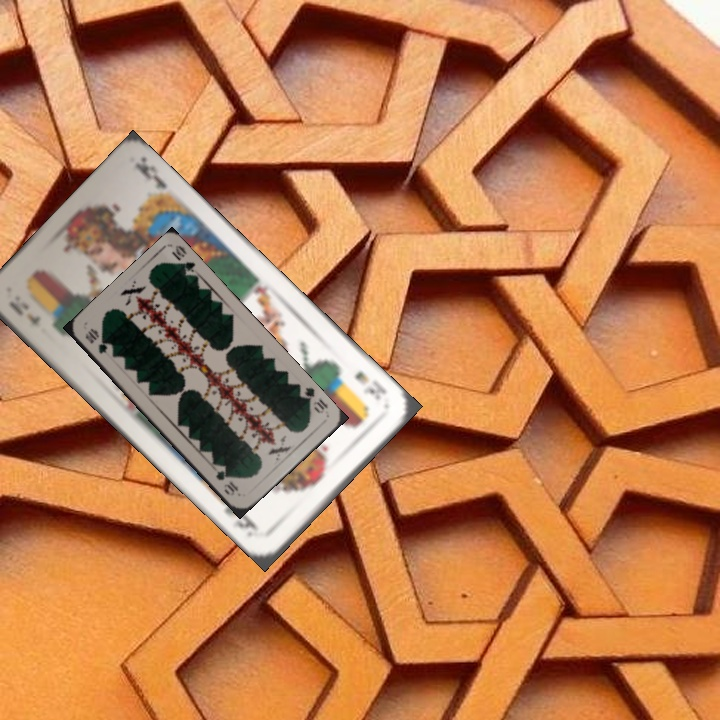EK: (351, 367, 390, 403), (4, 297, 44, 327)
G10: (295, 383, 331, 416), (81, 324, 110, 357)
